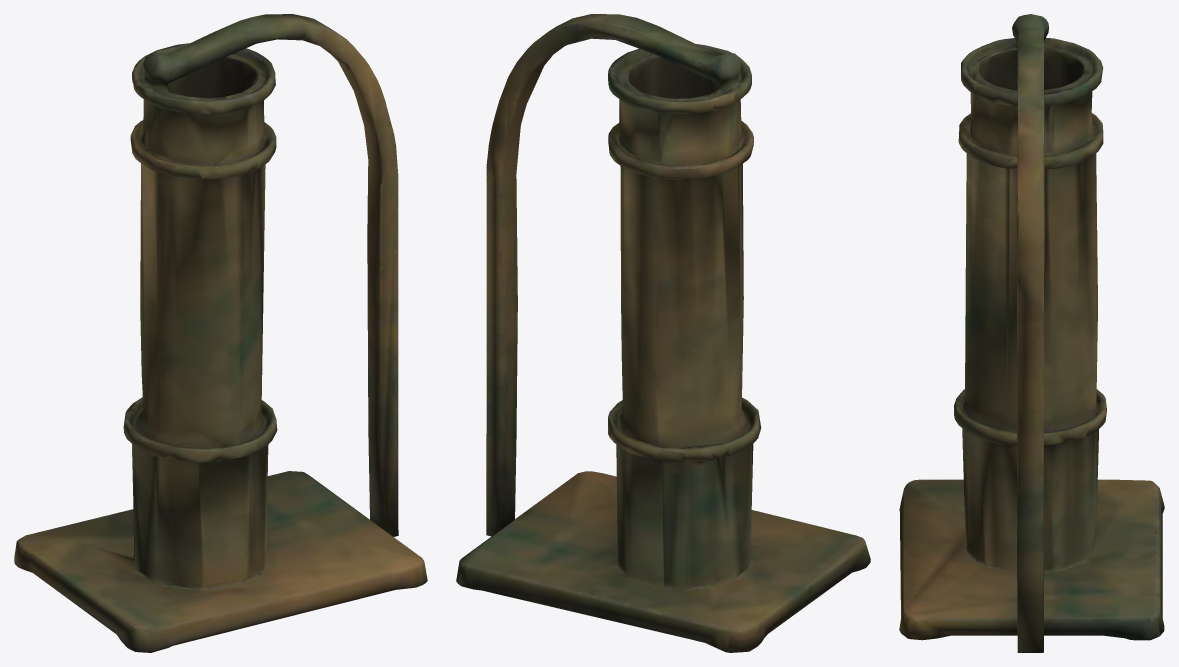
The model's file is simple-bronze-wall-torch-v001.glb.
3 views of the same model, side by side, from view 1: azimuth 30°, elevation 25°; view 2: azimuth 150°, elevation 25°; view 3: azimuth 270°, elevation 25° (orthographic).
Parts seen in each view (by area): view 1: simple-bronze-wall-torch; view 2: simple-bronze-wall-torch; view 3: simple-bronze-wall-torch.
Boxes of the visible parts, bbox=[...] form: simple-bronze-wall-torch: bbox=[14, 14, 427, 652]; simple-bronze-wall-torch: bbox=[456, 14, 870, 652]; simple-bronze-wall-torch: bbox=[899, 14, 1164, 652].
Size of the model in its own units: 0.3316 by 0.5393 by 0.2417.
Materials: 1 (1 with a texture image).
